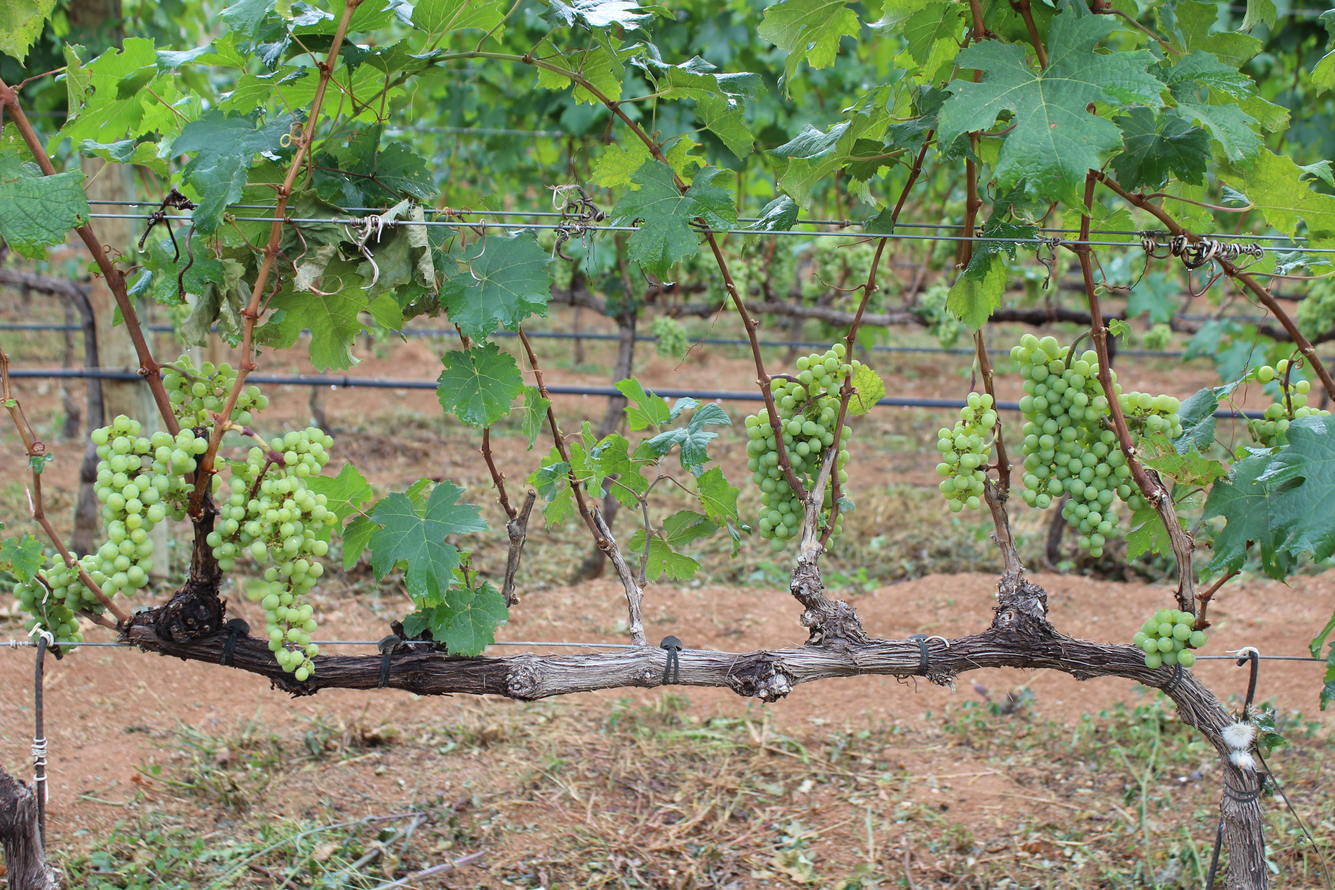leaf: (937, 8, 1163, 203), (172, 109, 293, 234), (610, 160, 736, 280), (369, 482, 487, 606), (441, 230, 552, 340), (1203, 450, 1291, 579), (1259, 415, 1335, 560), (0, 157, 89, 259), (1241, 149, 1335, 244), (1111, 106, 1211, 189), (758, 0, 859, 81), (437, 342, 525, 427), (636, 402, 730, 477), (416, 581, 509, 656), (1142, 433, 1228, 487), (946, 254, 1006, 330), (307, 463, 373, 523), (0, 0, 55, 62), (615, 378, 671, 431), (0, 534, 43, 583), (848, 364, 886, 415), (521, 386, 550, 449), (405, 615, 414, 630), (1201, 389, 1211, 393), (416, 627, 421, 631), (632, 236, 634, 239), (1198, 393, 1199, 395), (682, 399, 684, 400)
